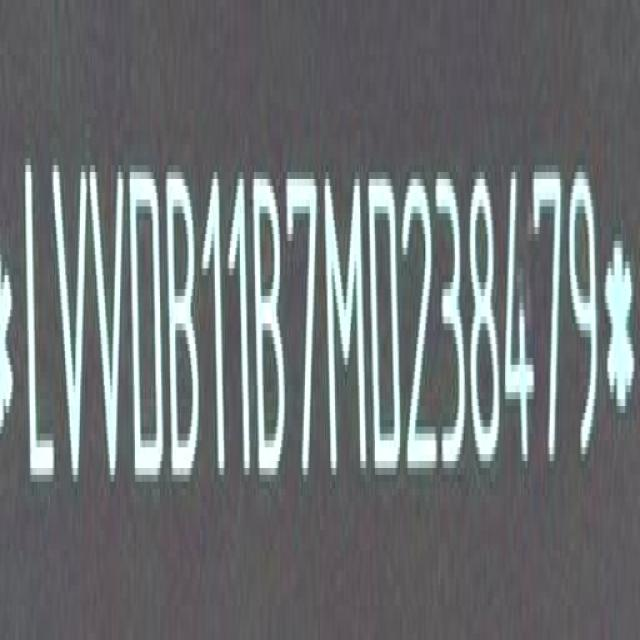1: (201, 166, 230, 487), (226, 163, 254, 495)
2: (400, 166, 440, 479)
3: (434, 166, 466, 477)
4: (504, 160, 534, 464)
7: (530, 150, 566, 480), (285, 158, 319, 489)
8: (467, 171, 502, 459)
9: (568, 158, 598, 477)
B: (164, 158, 198, 495), (252, 171, 286, 479)
D: (128, 171, 166, 489), (368, 163, 402, 477)
L: (23, 156, 57, 497)
M: (322, 171, 370, 487)
V: (51, 150, 90, 505), (89, 158, 126, 497)
